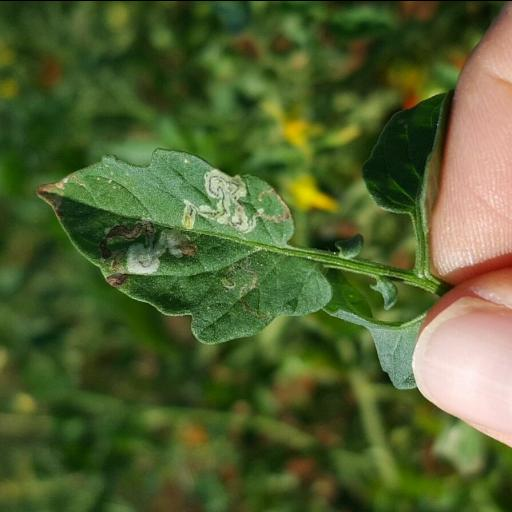disease_tomato: (33, 146, 336, 345)
